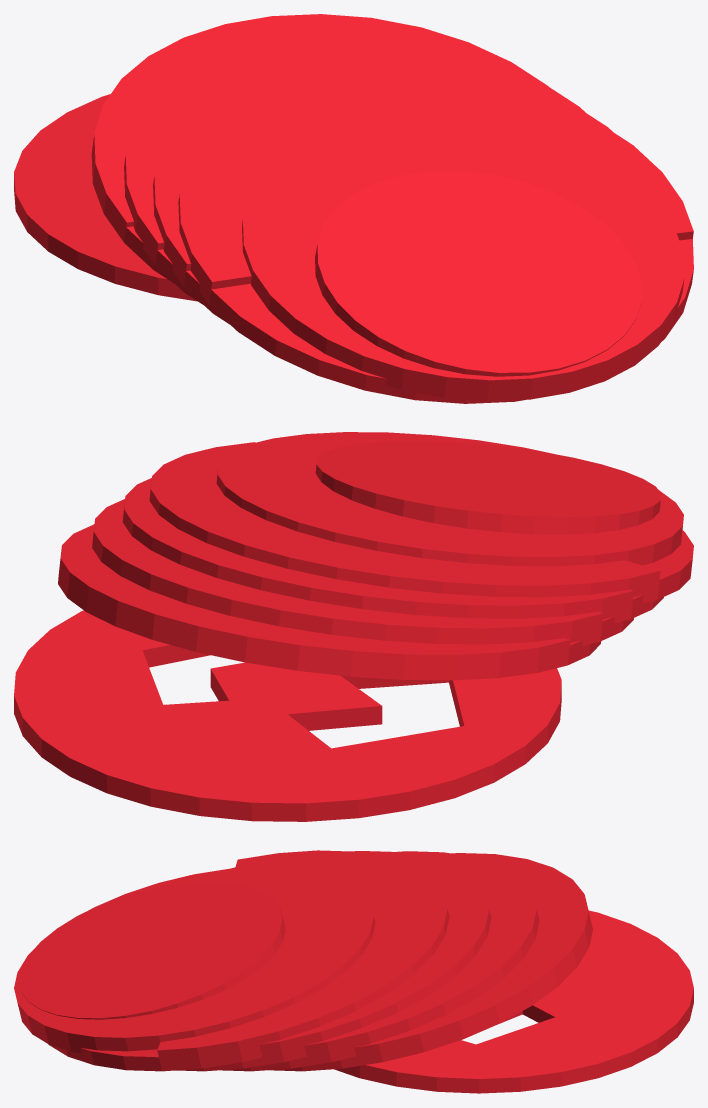
File: tomaatgesneden.fbx
The picture shows the model from 3 angles, top to bottom: view 1: azimuth 30°, elevation 25°; view 2: azimuth 150°, elevation 25°; view 3: azimuth 270°, elevation 25°; orthographic projection. The views are drawn at different scales.
Visible parts, largest first — view 1: Circle.006, Circle.005, Circle.004, Circle.001, Circle.002, Circle, Circle.003; view 2: Circle, Circle.006, Circle.005, Circle.004, Circle.001, Circle.002, Circle.003; view 3: Circle, Circle.006, Circle.005, Circle.004, Circle.001, Circle.002, Circle.003.
Part boxes in pixels (bbox=[...]): Circle.006: bbox=[315, 171, 641, 376]; Circle.005: bbox=[242, 117, 684, 401]; Circle.004: bbox=[178, 73, 693, 403]; Circle.001: bbox=[91, 14, 548, 282]; Circle.002: bbox=[124, 35, 585, 304]; Circle: bbox=[14, 94, 197, 301]; Circle.003: bbox=[153, 55, 612, 324]; Circle: bbox=[14, 610, 561, 821]; Circle.006: bbox=[315, 440, 661, 534]; Circle.005: bbox=[216, 432, 683, 566]; Circle.004: bbox=[149, 442, 693, 603]; Circle.001: bbox=[58, 524, 601, 680]; Circle.002: bbox=[92, 499, 633, 645]; Circle.003: bbox=[122, 478, 663, 623]; Circle: bbox=[334, 910, 693, 1093]; Circle.006: bbox=[19, 881, 285, 1019]; Circle.005: bbox=[14, 866, 375, 1053]; Circle.004: bbox=[48, 850, 449, 1071]; Circle.001: bbox=[269, 853, 592, 1071]; Circle.002: bbox=[222, 851, 539, 1071]; Circle.003: bbox=[175, 851, 491, 1071].
Size of the model in its own units: 208 by 53.83 by 316.
